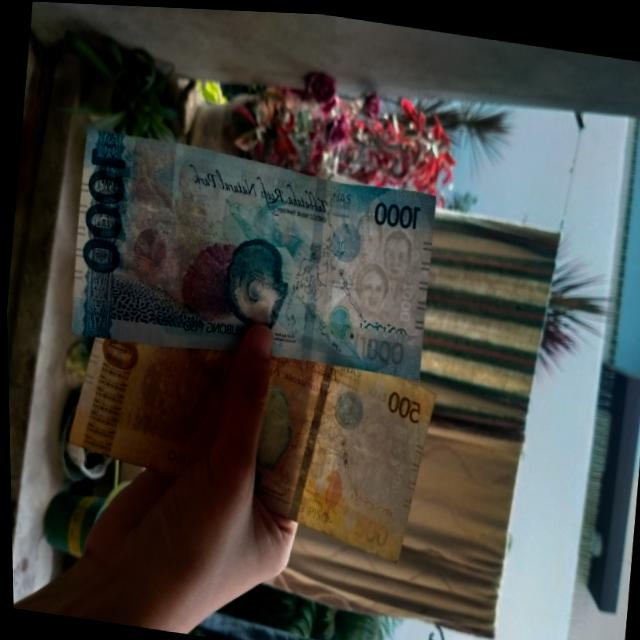security_thread: (283, 356, 332, 520), (295, 174, 330, 359)
see_through_mark: (352, 310, 409, 340), (344, 483, 394, 515)
value: (74, 141, 134, 277)
value_watermark: (396, 273, 415, 319), (387, 458, 404, 494)
watermark: (342, 208, 418, 318), (345, 404, 412, 505)
